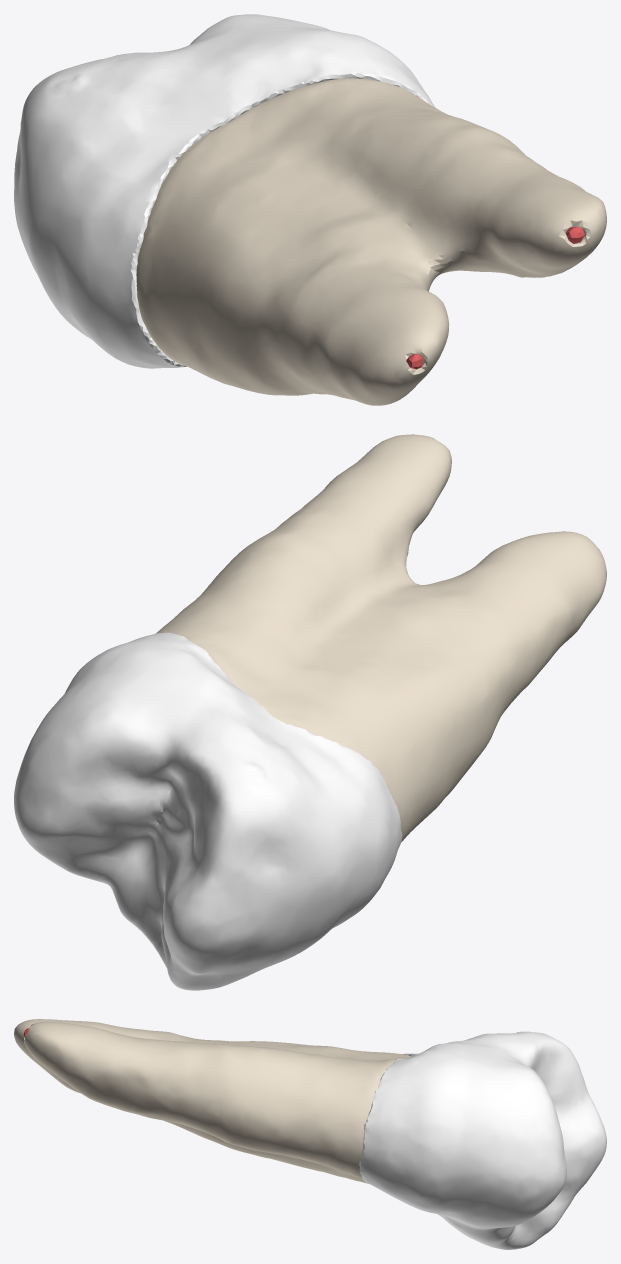
Rendered from 恒牙上颌第一双尖牙.fbx.
3 renders of one model, top to bottom at view 1: azimuth 30°, elevation 25°; view 2: azimuth 150°, elevation 25°; view 3: azimuth 270°, elevation 25°, orthographic. The views are drawn at different scales.
Visible parts, largest first — view 1: texture_B, texture_W; view 2: texture_W, texture_B; view 3: texture_W, texture_B.
Boxes of the visible parts, x1,y1,x2,y2 form: texture_B: (136,78,606,405); texture_W: (14,14,434,368); texture_W: (14,632,402,990); texture_B: (156,434,606,841); texture_W: (359,1031,606,1249); texture_B: (14,1019,411,1183).
Bounding box in the file's own units: 13.97 × 13.43 × 28.91.
Materials: 3 (3 with a texture image).
